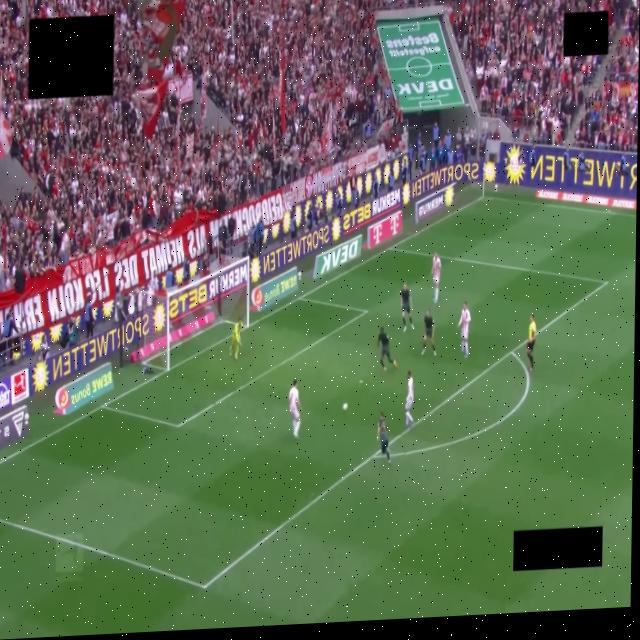ball: (342, 404, 347, 410)
player: (378, 327, 396, 373), (288, 379, 301, 439), (457, 302, 470, 358), (400, 283, 413, 331), (421, 311, 435, 355), (377, 412, 389, 463), (230, 318, 243, 359), (405, 370, 413, 428), (432, 253, 440, 303)
referee: (526, 314, 536, 371)
